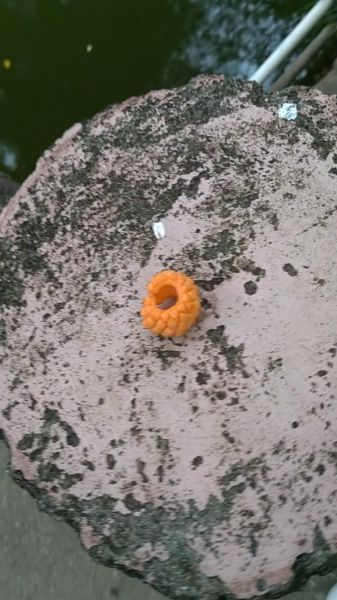eggs: (134, 266, 203, 344)
